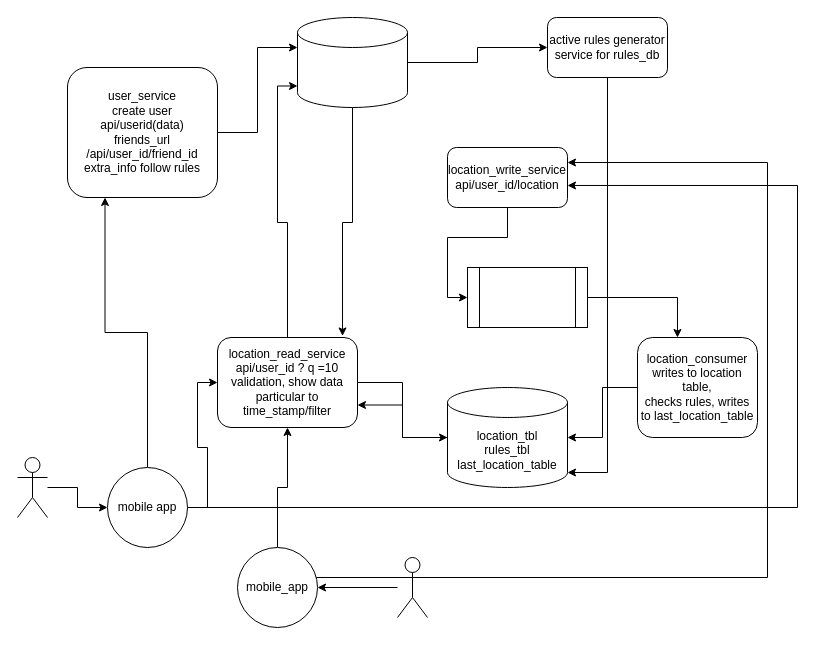
The diagram is 823 pixels wide and 656 high, and some of its shapes have lost their labels. Here are the shapes that lost their labels. From the top down, the centre of each, then its label:
pixel 352 62: SQL db user_table friends_table
pixel 527 297: Queue
pixel 32 487: Actor
pixel 412 587: Boss
